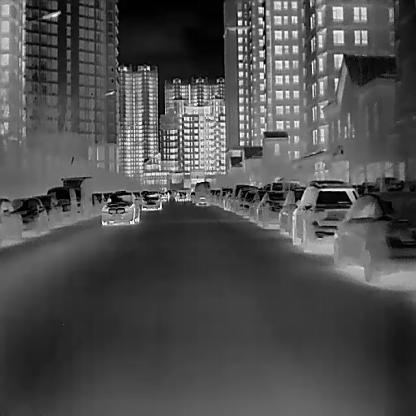car: (333, 192, 414, 281), (292, 185, 360, 249), (11, 197, 48, 235), (100, 189, 139, 225), (278, 187, 306, 236), (256, 190, 285, 230), (48, 185, 78, 221), (0, 196, 21, 246), (33, 194, 63, 225), (235, 187, 258, 218), (250, 191, 268, 223), (140, 190, 162, 212), (244, 191, 256, 220), (174, 191, 190, 201), (160, 191, 170, 201)
truck: (62, 175, 91, 217), (194, 180, 210, 206)
